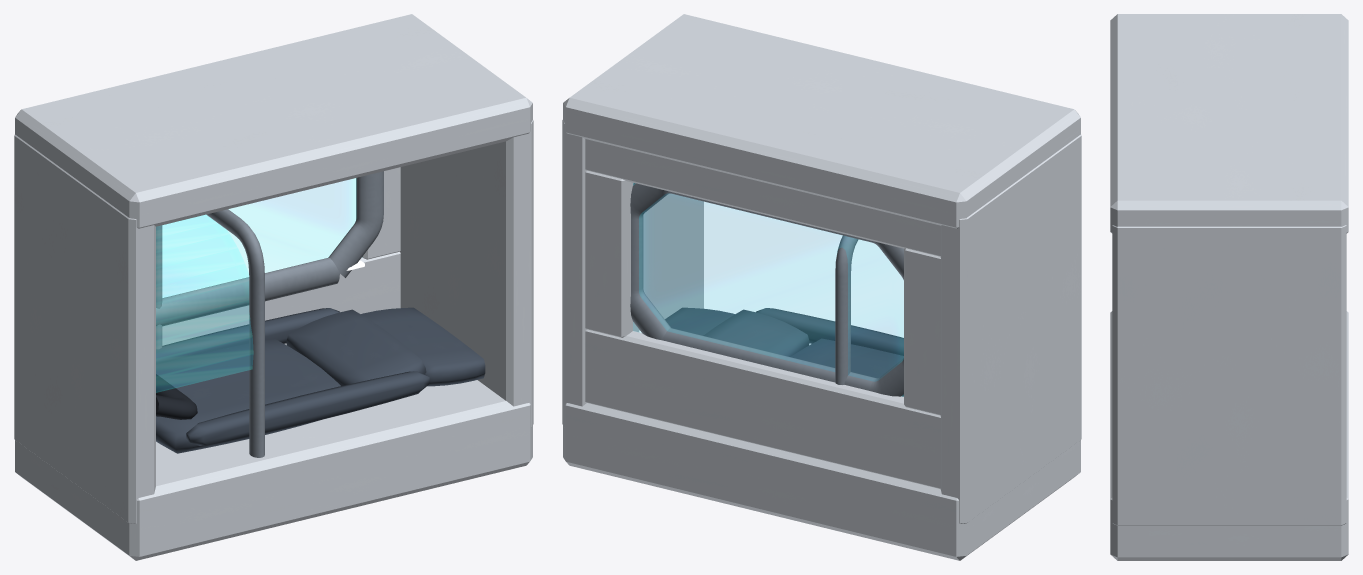
Rendered from bunk_winner_02_medical_biomonitor.glb.
3 views of the same model, side by side, from view 1: azimuth 30°, elevation 25°; view 2: azimuth 150°, elevation 25°; view 3: azimuth 270°, elevation 25° (orthographic). The views are drawn at different scales.
Parts seen in each view (by area): view 1: MedPod_AerospaceWhiteCleanShell, MedPod_BiometricSlateCouch, MedPod_TranslucentHoloVitalsVisor, MedPod_DiagnosticScannerArchAndBezel, MedPod_RearTranslucentViewport, MedPod_CharcoalCranialCradle; view 2: MedPod_AerospaceWhiteCleanShell, MedPod_RearTranslucentViewport, MedPod_DiagnosticScannerArchAndBezel, MedPod_BiometricSlateCouch; view 3: MedPod_AerospaceWhiteCleanShell.
Part boxes in pixels (left/top/right/bottom): MedPod_AerospaceWhiteCleanShell: left=14, top=14, right=533, bottom=560; MedPod_BiometricSlateCouch: left=156, top=307, right=485, bottom=453; MedPod_TranslucentHoloVitalsVisor: left=156, top=215, right=253, bottom=392; MedPod_DiagnosticScannerArchAndBezel: left=156, top=171, right=383, bottom=457; MedPod_RearTranslucentViewport: left=163, top=178, right=355, bottom=297; MedPod_CharcoalCranialCradle: left=156, top=374, right=197, bottom=419; MedPod_AerospaceWhiteCleanShell: left=562, top=14, right=1081, bottom=560; MedPod_RearTranslucentViewport: left=633, top=183, right=903, bottom=396; MedPod_DiagnosticScannerArchAndBezel: left=630, top=183, right=903, bottom=396; MedPod_BiometricSlateCouch: left=665, top=307, right=903, bottom=378; MedPod_AerospaceWhiteCleanShell: left=1110, top=14, right=1348, bottom=560.
Size of the model in its own units: 2.19 by 1.9 by 1.14.
9 materials, 9 textured.
